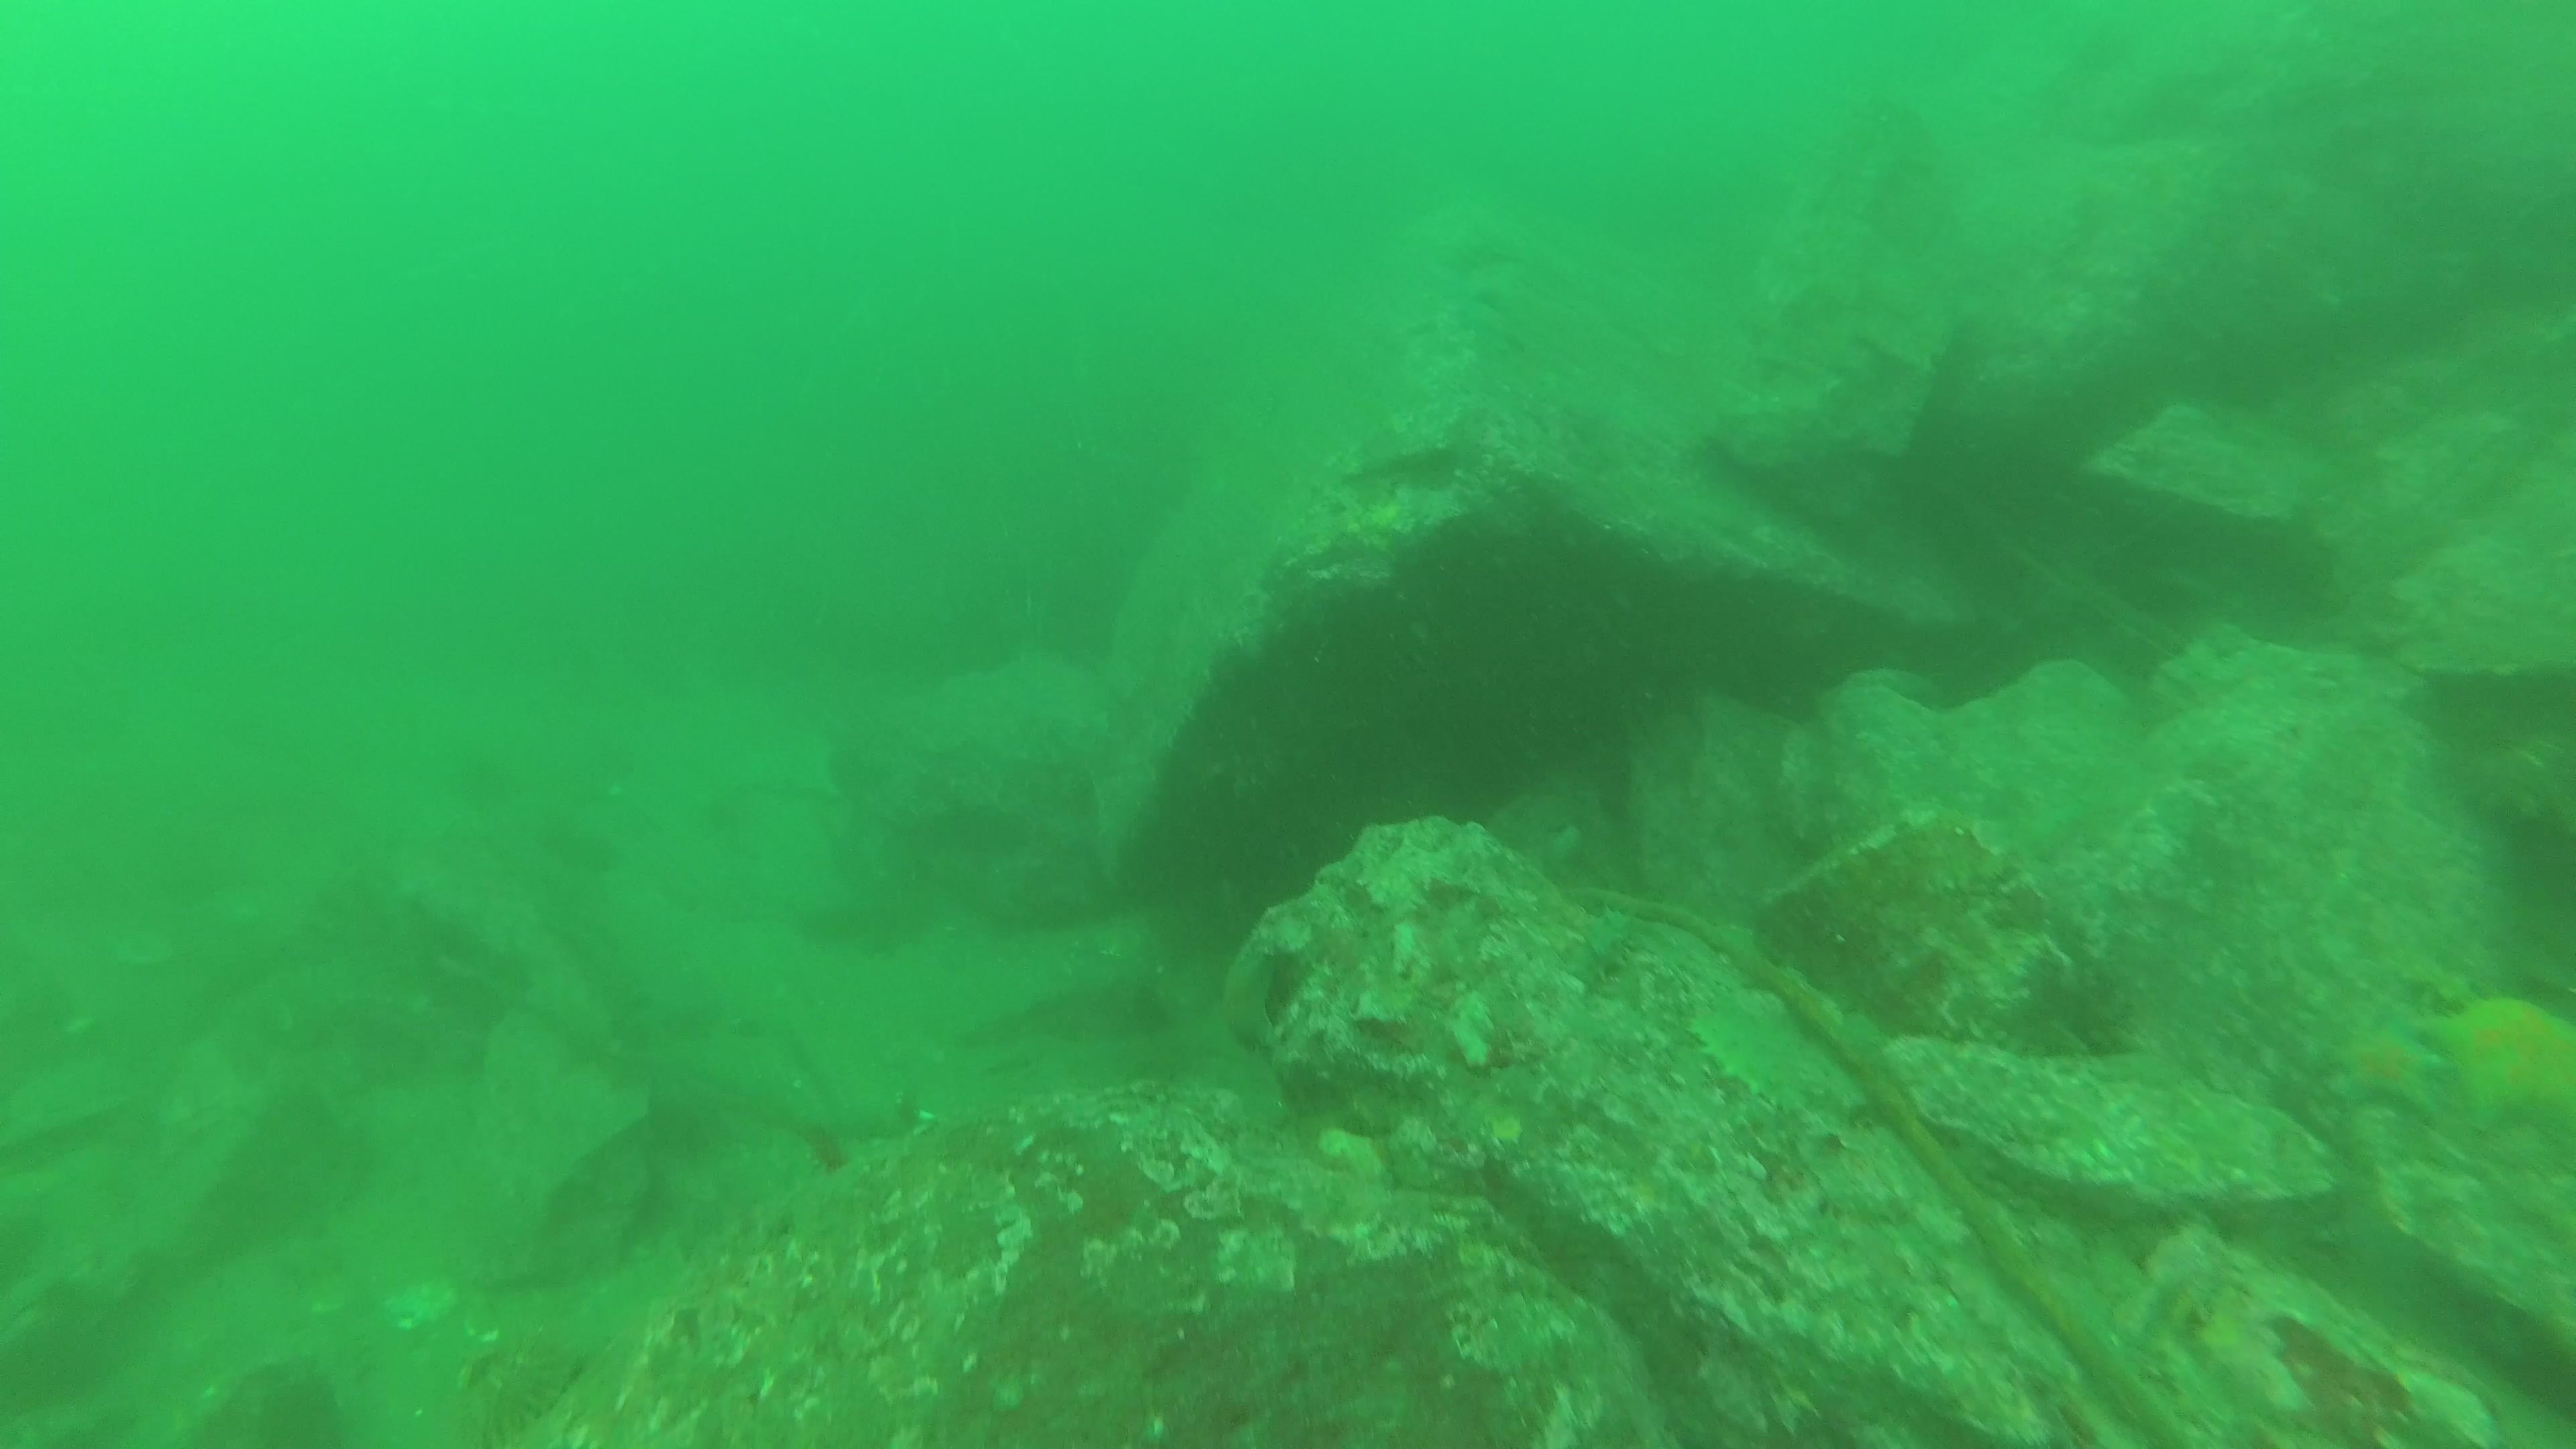holothurian: (1686, 1010, 1817, 1113)
starfish: (2429, 996, 2576, 1138), (2328, 1021, 2442, 1113)
